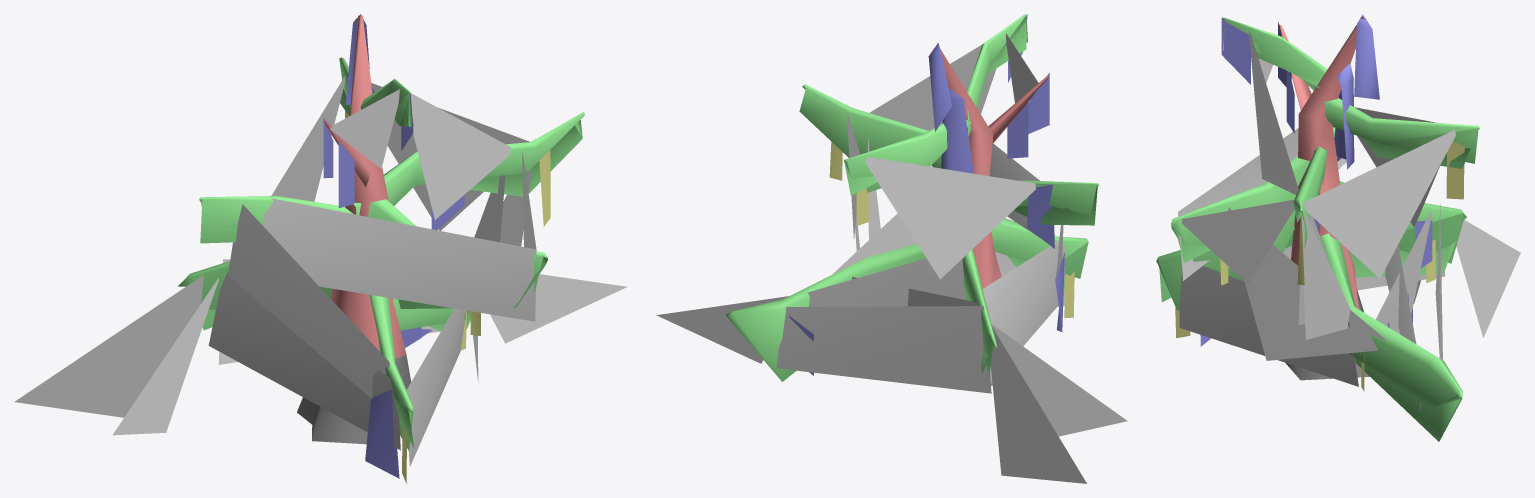
File: Oren_Darkelf_tree08.gltf
3 views of the same model, side by side, from view 1: azimuth 30°, elevation 25°; view 2: azimuth 150°, elevation 25°; view 3: azimuth 270°, elevation 25° (orthographic). The views are drawn at different scales.
Parts seen in each view (by area): view 1: Oren_Darkelf_tree08; view 2: Oren_Darkelf_tree08; view 3: Oren_Darkelf_tree08.
Part boxes in pixels (x1,y1,x2,y2): Oren_Darkelf_tree08: (14,14,627,483); Oren_Darkelf_tree08: (656,14,1127,483); Oren_Darkelf_tree08: (1156,14,1520,441).
Size of the model in its own units: 11.86 by 8.58 by 7.34.
